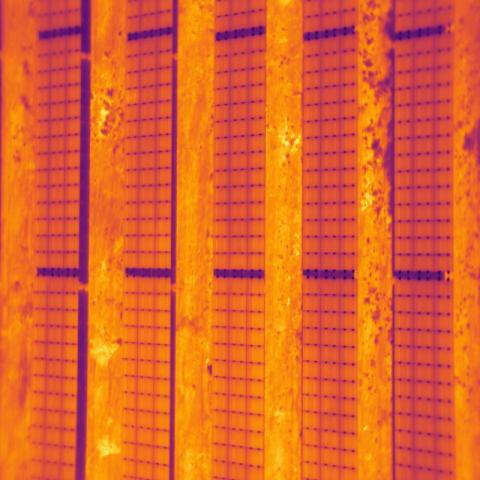fault: (124, 88, 141, 105)
